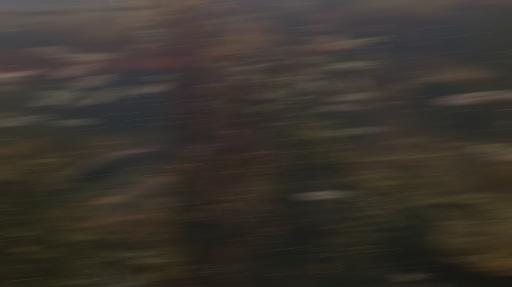Fish: (55, 146, 168, 199), (94, 176, 169, 222), (440, 92, 511, 105), (298, 191, 373, 202), (86, 85, 129, 104), (437, 92, 494, 105), (473, 144, 511, 163), (35, 91, 84, 105), (345, 77, 370, 101), (57, 62, 96, 77), (72, 73, 111, 88), (328, 38, 381, 49), (61, 53, 118, 63), (0, 115, 50, 126), (0, 69, 42, 81), (299, 191, 354, 200), (34, 46, 77, 57), (333, 127, 384, 136), (133, 82, 168, 94), (320, 104, 369, 111), (316, 33, 343, 45), (61, 97, 92, 107), (50, 119, 93, 126), (139, 29, 166, 40), (333, 92, 366, 101), (304, 80, 331, 91), (302, 66, 337, 74), (331, 61, 366, 69), (299, 56, 332, 64), (234, 71, 259, 81), (41, 89, 74, 96), (291, 74, 322, 81), (234, 65, 257, 74), (258, 91, 278, 99), (254, 104, 275, 111), (0, 113, 17, 120), (0, 84, 13, 93), (152, 74, 167, 81), (200, 100, 214, 107), (503, 120, 511, 124)
